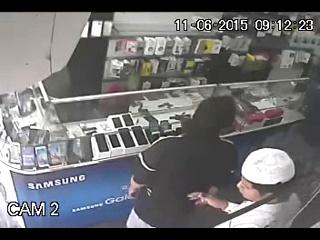Normal: (121, 96, 239, 228), (190, 147, 304, 227)
